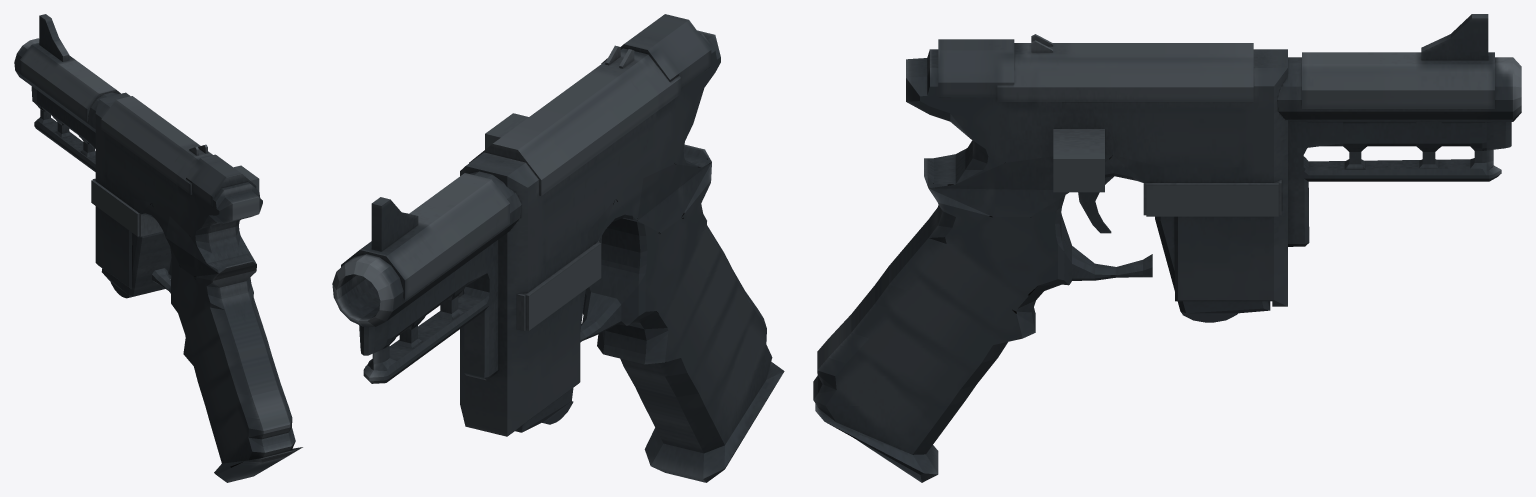
File: burst_pistol.glb
3 views of the same model, side by side, from view 1: azimuth 30°, elevation 25°; view 2: azimuth 150°, elevation 25°; view 3: azimuth 270°, elevation 25° (orthographic). The views are drawn at different scales.
Visible parts, largest first — view 1: SlidingBolt, burst_pistol, InsertedAmmo; view 2: SlidingBolt, burst_pistol, InsertedAmmo, ChargingHandle; view 3: SlidingBolt, burst_pistol, ChargingHandle, InsertedAmmo.
Boxes of the visible parts, <box> form: SlidingBolt: <box>14,14,262,273</box>; burst_pistol: <box>91,170,302,482</box>; InsertedAmmo: <box>101,231,171,298</box>; SlidingBolt: <box>332,14,720,383</box>; burst_pistol: <box>458,162,784,482</box>; InsertedAmmo: <box>515,290,585,432</box>; ChargingHandle: <box>485,113,528,149</box>; SlidingBolt: <box>906,14,1521,189</box>; burst_pistol: <box>813,161,1309,482</box>; ChargingHandle: <box>1053,129,1104,192</box>; InsertedAmmo: <box>1155,216,1270,322</box>.
Size of the model in its own units: 0.1052 by 0.3423 by 0.48.
Materials: 1 (1 with a texture image).
